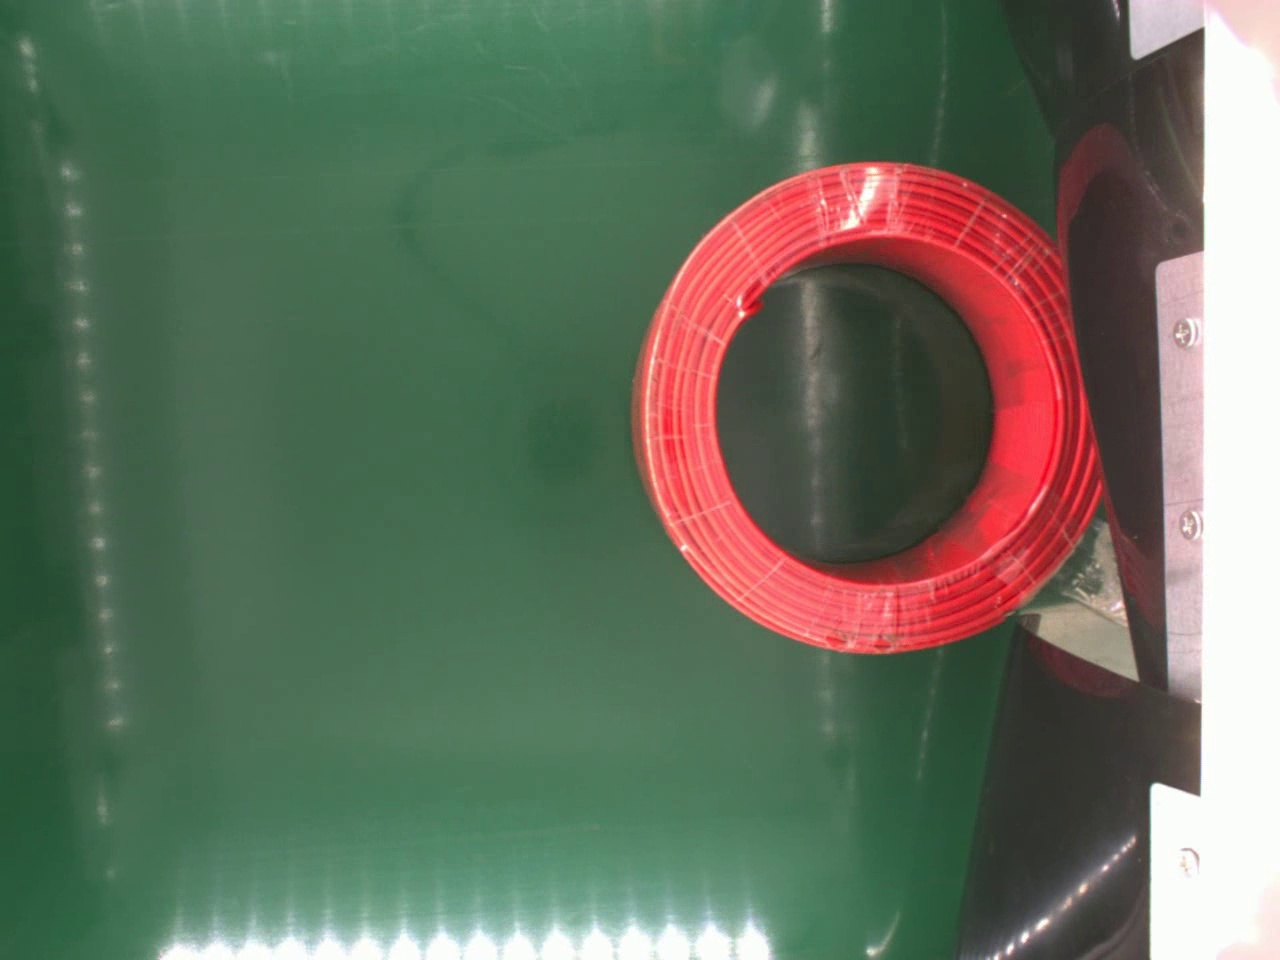red: (623, 157, 1100, 655)
